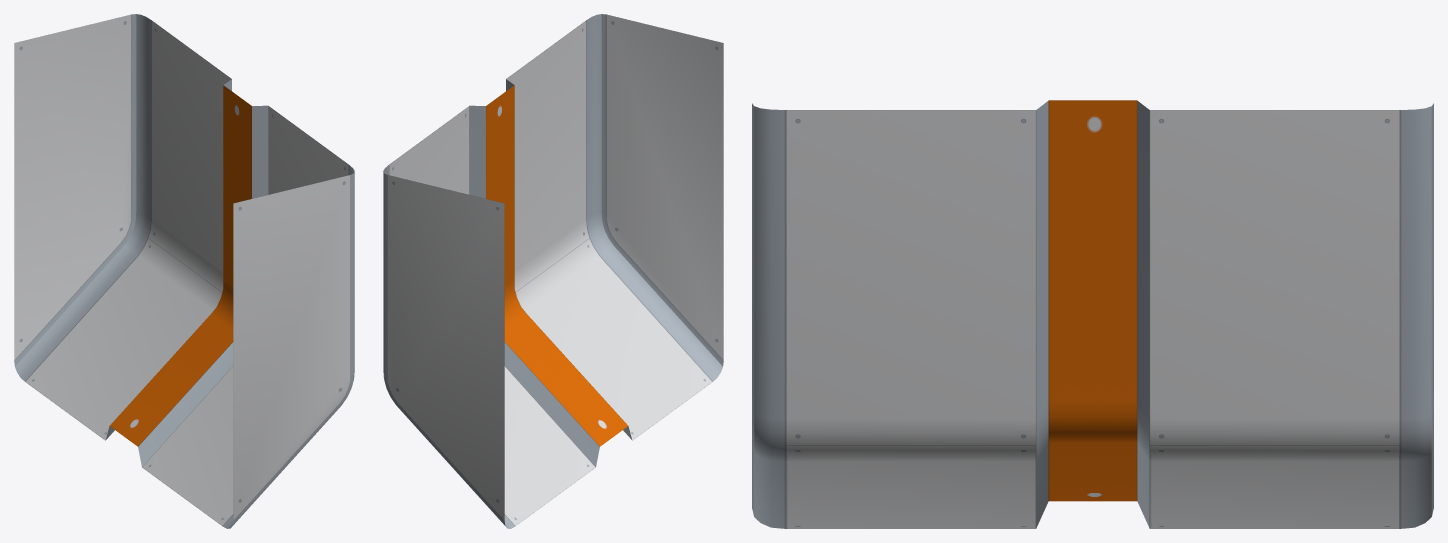
Rendered from Ext_Wall_Addon_01.FBX.
3 views of the same model, side by side, from view 1: azimuth 30°, elevation 25°; view 2: azimuth 150°, elevation 25°; view 3: azimuth 270°, elevation 25° (orthographic). The views are drawn at different scales.
Parts seen in each view (by area): view 1: Ext_Wall_Addon_01; view 2: Ext_Wall_Addon_01; view 3: Ext_Wall_Addon_01.
Boxes of the visible parts, bbox=[...] form: Ext_Wall_Addon_01: bbox=[14, 14, 354, 528]; Ext_Wall_Addon_01: bbox=[383, 14, 723, 528]; Ext_Wall_Addon_01: bbox=[752, 100, 1433, 528].
Bounding box in the file's own units: 2 × 5 × 6.
3 materials, 3 textured.
